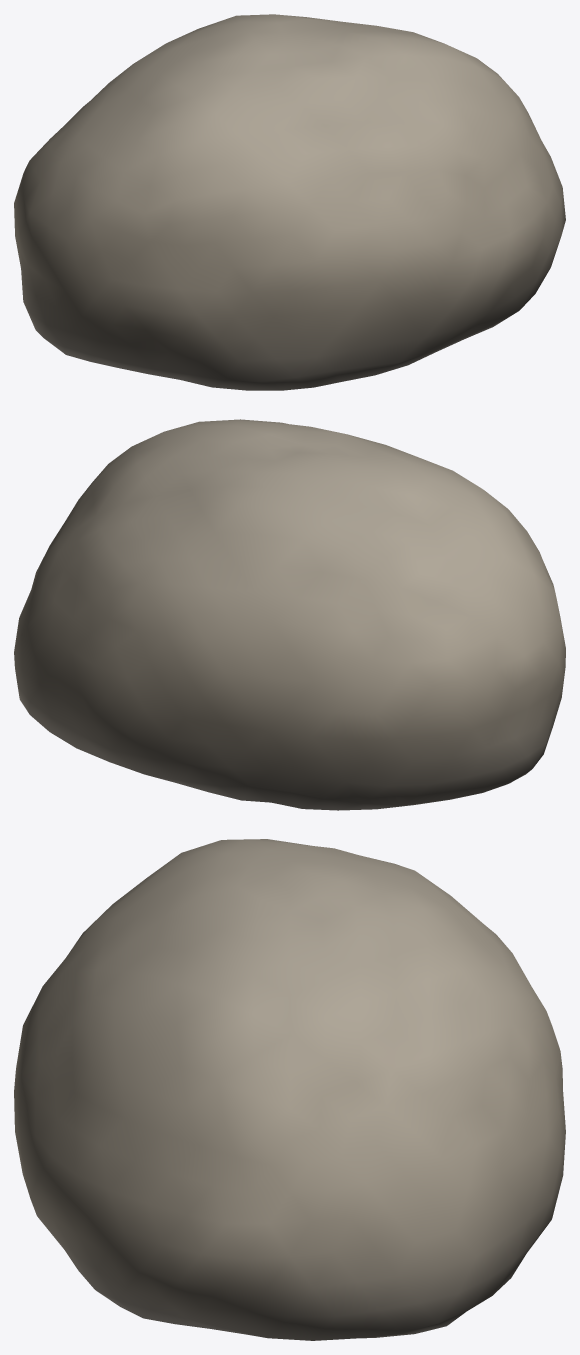
File: stone_a.glb
3 views of the same model, one above another, from view 1: azimuth 30°, elevation 25°; view 2: azimuth 150°, elevation 25°; view 3: azimuth 270°, elevation 25° (orthographic). The views are drawn at different scales.
Visible parts, largest first — view 1: stone_a; view 2: stone_a; view 3: stone_a.
Part boxes in pixels (<box>): stone_a: <box>14,14,565,390</box>; stone_a: <box>14,419,565,810</box>; stone_a: <box>14,839,565,1340</box>.
Bounding box in the file's own units: 0.481 × 0.2552 × 0.378.
